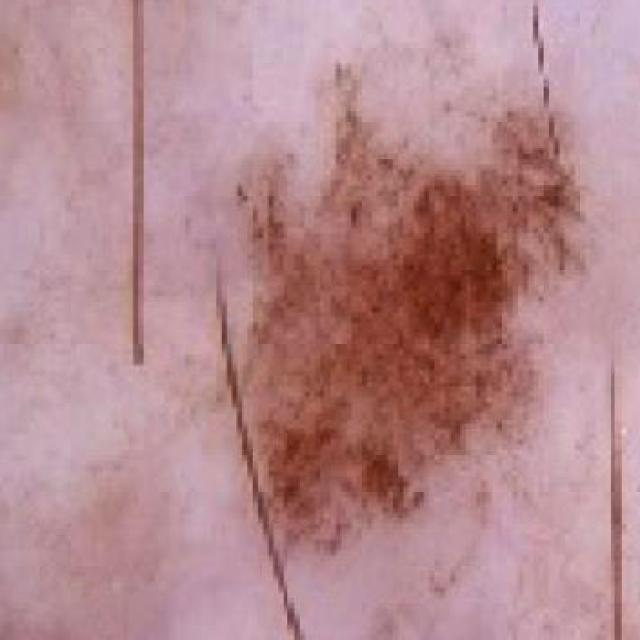BKL: (168, 76, 596, 592)
